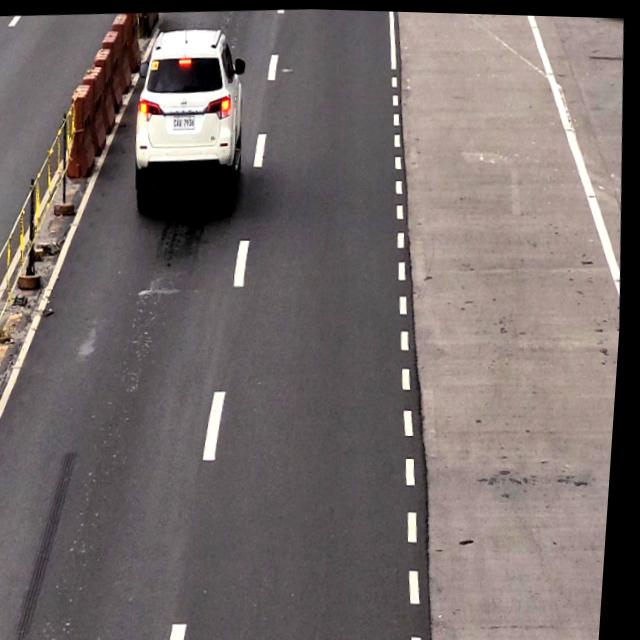Car: (124, 25, 248, 219)
License-Plate: (174, 115, 198, 131)
